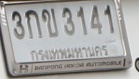num3: (10, 10, 26, 41)
txt01: (23, 9, 43, 40)
txt02: (41, 8, 60, 38)
